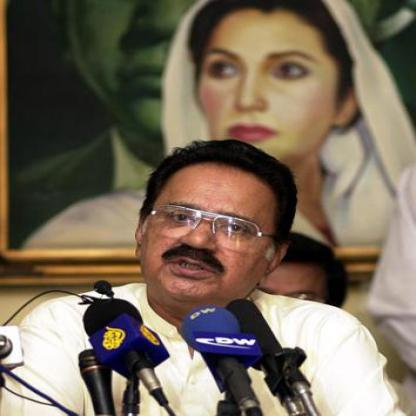face: (188, 1, 346, 168), (141, 150, 282, 306)
